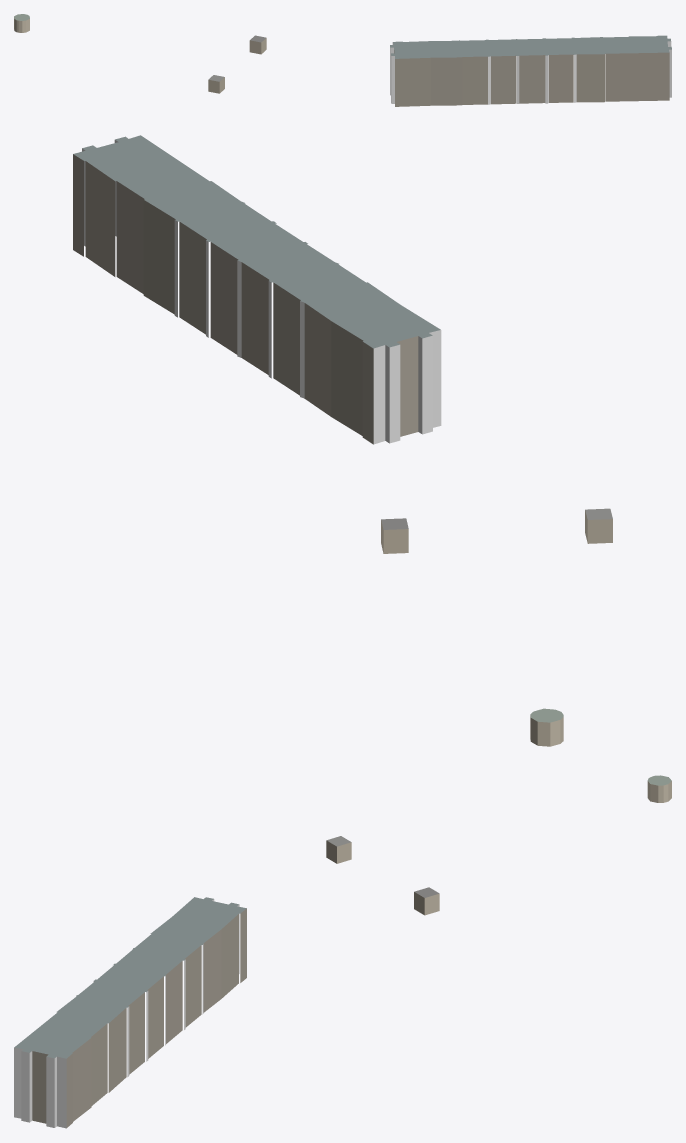
3 views of the same model, one above another, from view 1: azimuth 30°, elevation 25°; view 2: azimuth 150°, elevation 25°; view 3: azimuth 270°, elevation 25° (orthographic). The views are drawn at different scales.
Visible parts, largest first — view 1: tuile; view 2: tuile; view 3: tuile.
Part boxes in pixels (<box>): tuile: <box>14,14,671,106</box>; tuile: <box>73,135,612,746</box>; tuile: <box>14,775,671,1128</box>.
Bounding box in the file's own units: 190 × 19.48 × 167.
